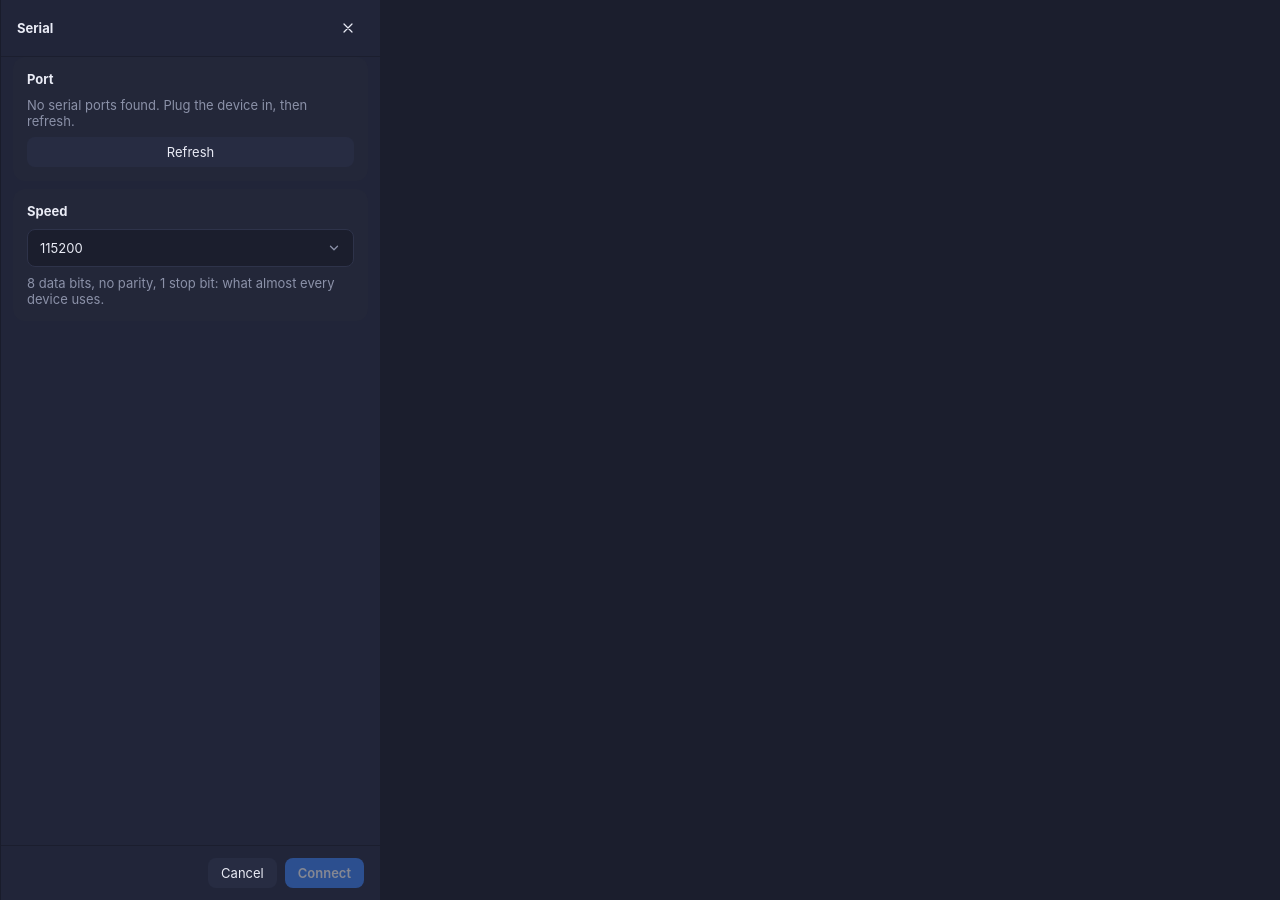
Test case: SerialPanel › says so when there are no ports, disables Connect, and finds a device after Refresh
Check: the text "No serial ports found. Plug the device in, then refresh." is shown, box [27, 97, 354, 129]
Check: the button "Connect" is disabled, box [285, 858, 364, 888]
Click the button "Refresh" at (190,152), box [27, 137, 354, 167]
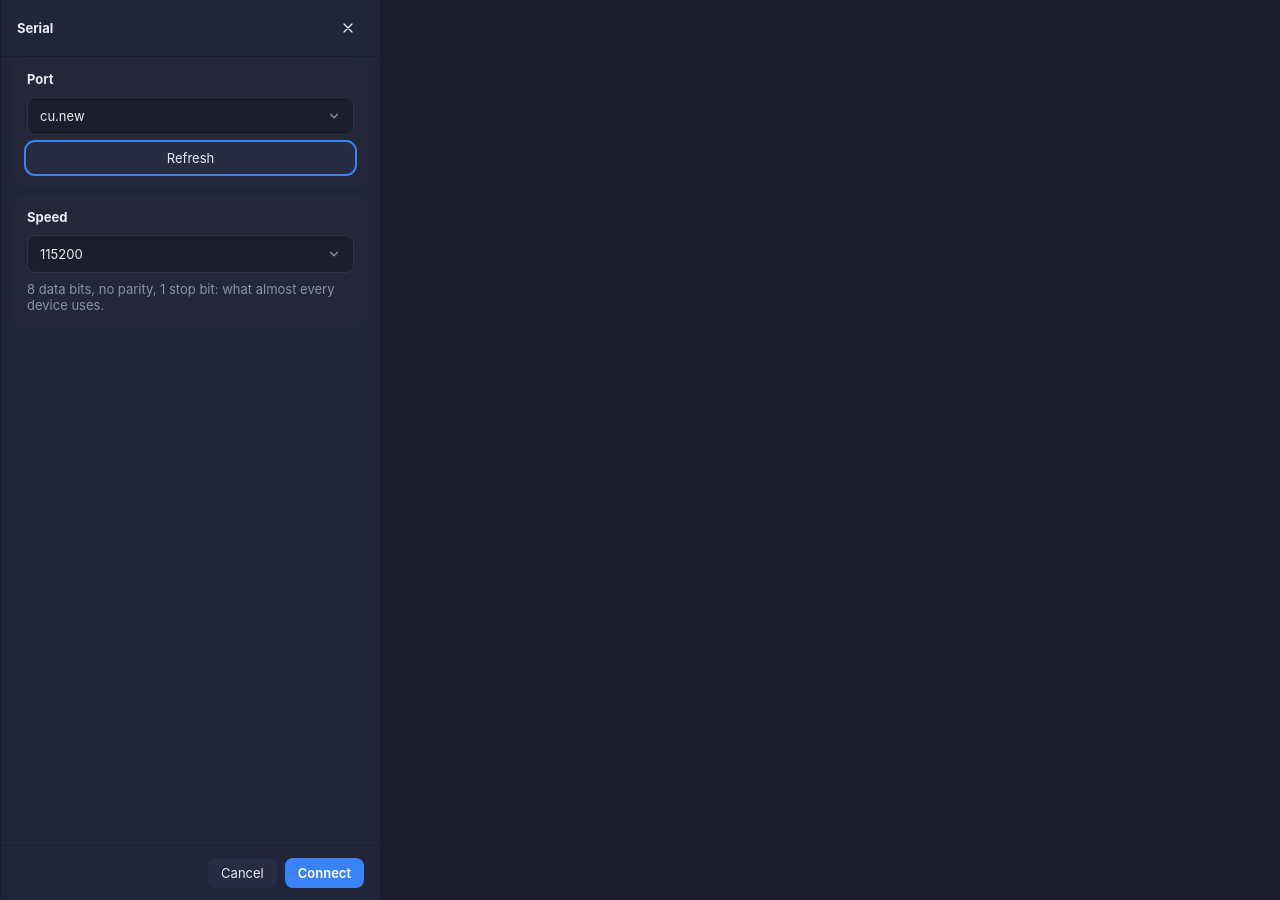
Check: the dropdown named "Serial port, cu.new" is shown, box [27, 97, 354, 135]
Check: the button "Connect" is enabled, box [285, 858, 364, 888]
